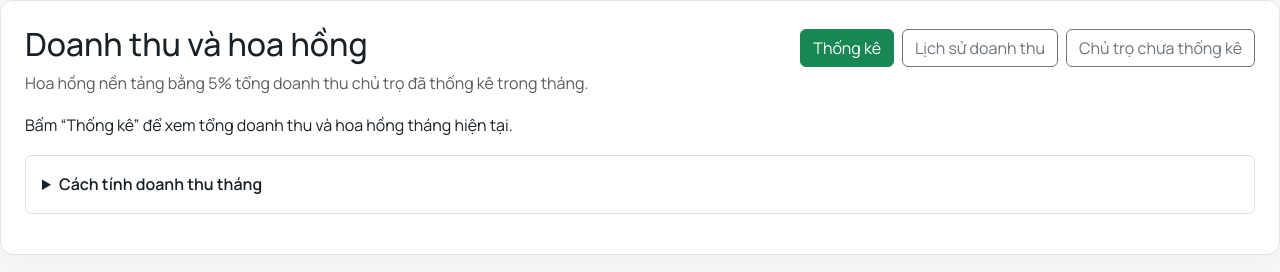
Scenario: revenue overview › shows errors and permits retry
Click the button "Thống kê". click: (847, 48)
box: x1=800 y1=29 x2=894 y2=67
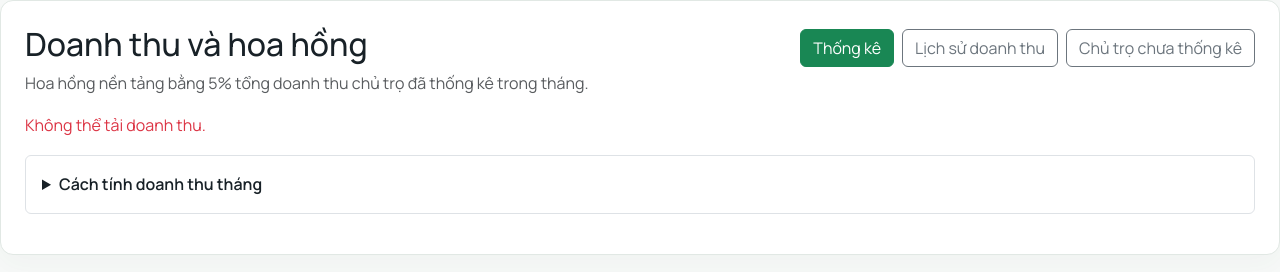
Check: the message "Không thể tải doanh thu." is shown, box x1=25 y1=114 x2=206 y2=136
